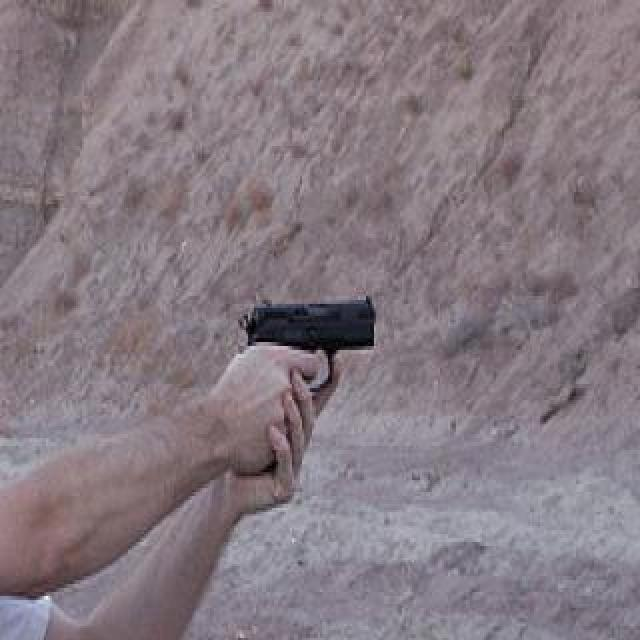Guns: (234, 276, 395, 393)
